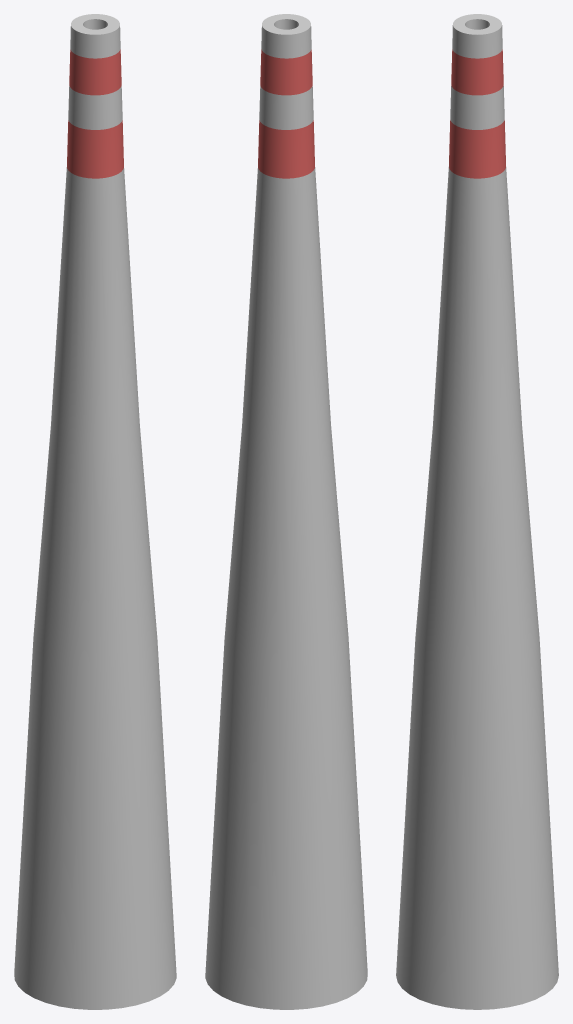
File: Chimney01.fbx
3 renders of one model, left to right at view 1: azimuth 30°, elevation 25°; view 2: azimuth 150°, elevation 25°; view 3: azimuth 270°, elevation 25°, orthographic.
Parts seen in each view (by area): view 1: Chimney; view 2: Chimney; view 3: Chimney.
Boxes of the visible parts, left/top/right/bottom form: Chimney: left=14, top=14, right=176, bottom=1009; Chimney: left=205, top=14, right=367, bottom=1009; Chimney: left=396, top=14, right=558, bottom=1009.
Size of the model in its own units: 310 by 2000 by 310.
